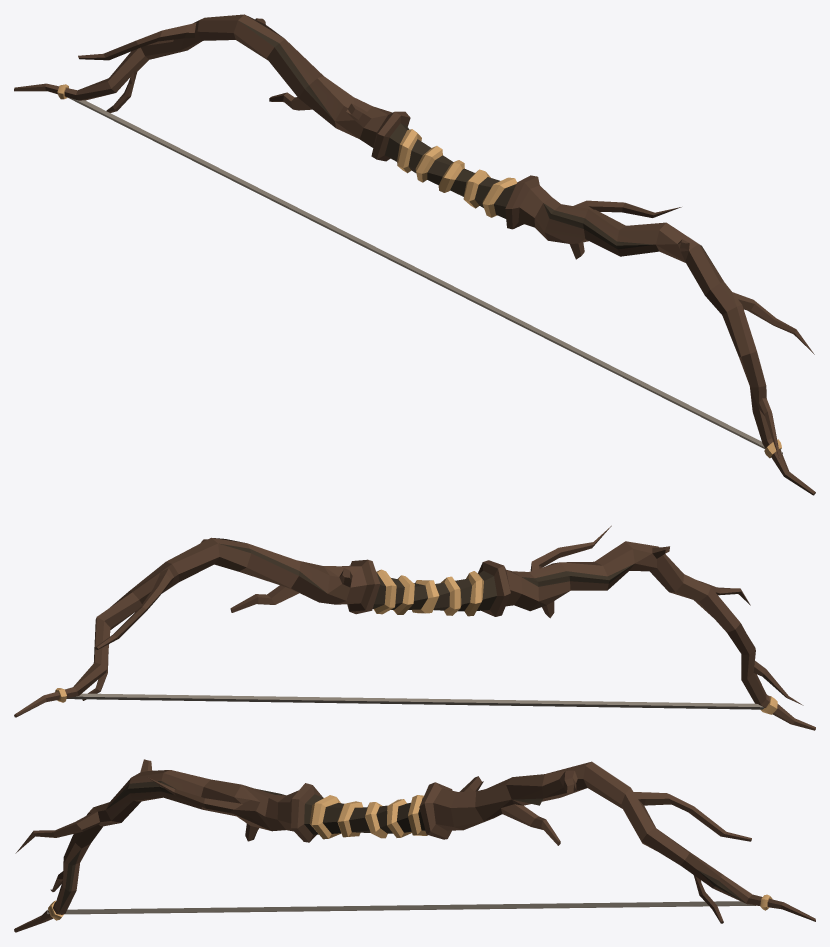
The model's file is er-bow-01.glb.
The picture shows the model from 3 angles, top to bottom: view 1: azimuth 90°, elevation 25°; view 2: azimuth 150°, elevation 25°; view 3: azimuth 270°, elevation 25°; orthographic projection.
Parts seen in each view (by area): view 1: er-bow-01; view 2: er-bow-01; view 3: er-bow-01.
Part boxes in pixels (x1,y1,x2,y2): er-bow-01: [14, 14, 815, 495]; er-bow-01: [14, 525, 815, 730]; er-bow-01: [14, 759, 815, 932].
Bounding box in the file's own units: 0.779 × 0.5845 × 1.31.
1 material, 1 textured.
